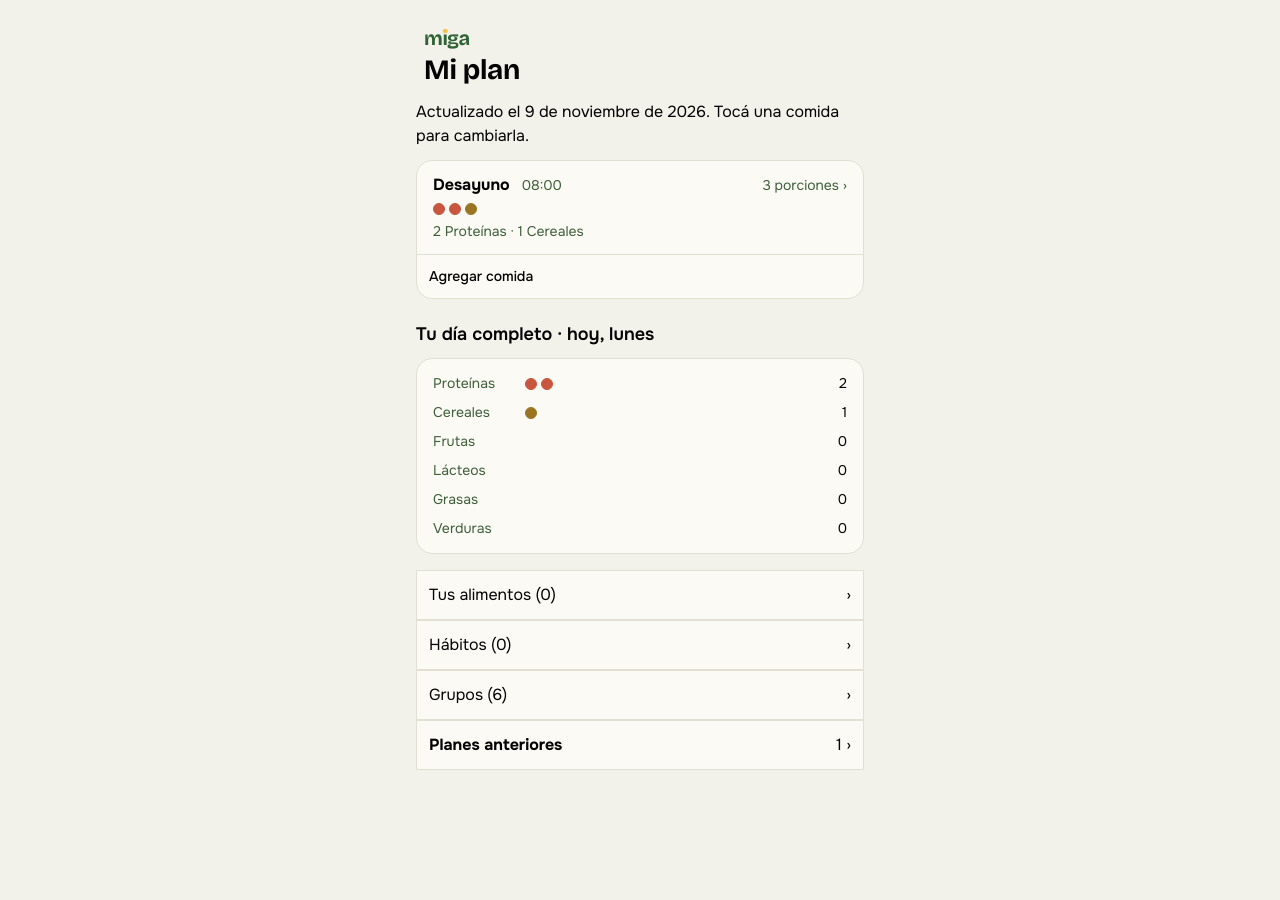
los planes anteriores conservan el detalle de solo lectura
Click the button "Planes anteriores 1 ›".
click(496, 745)  # box [416, 720, 864, 770]
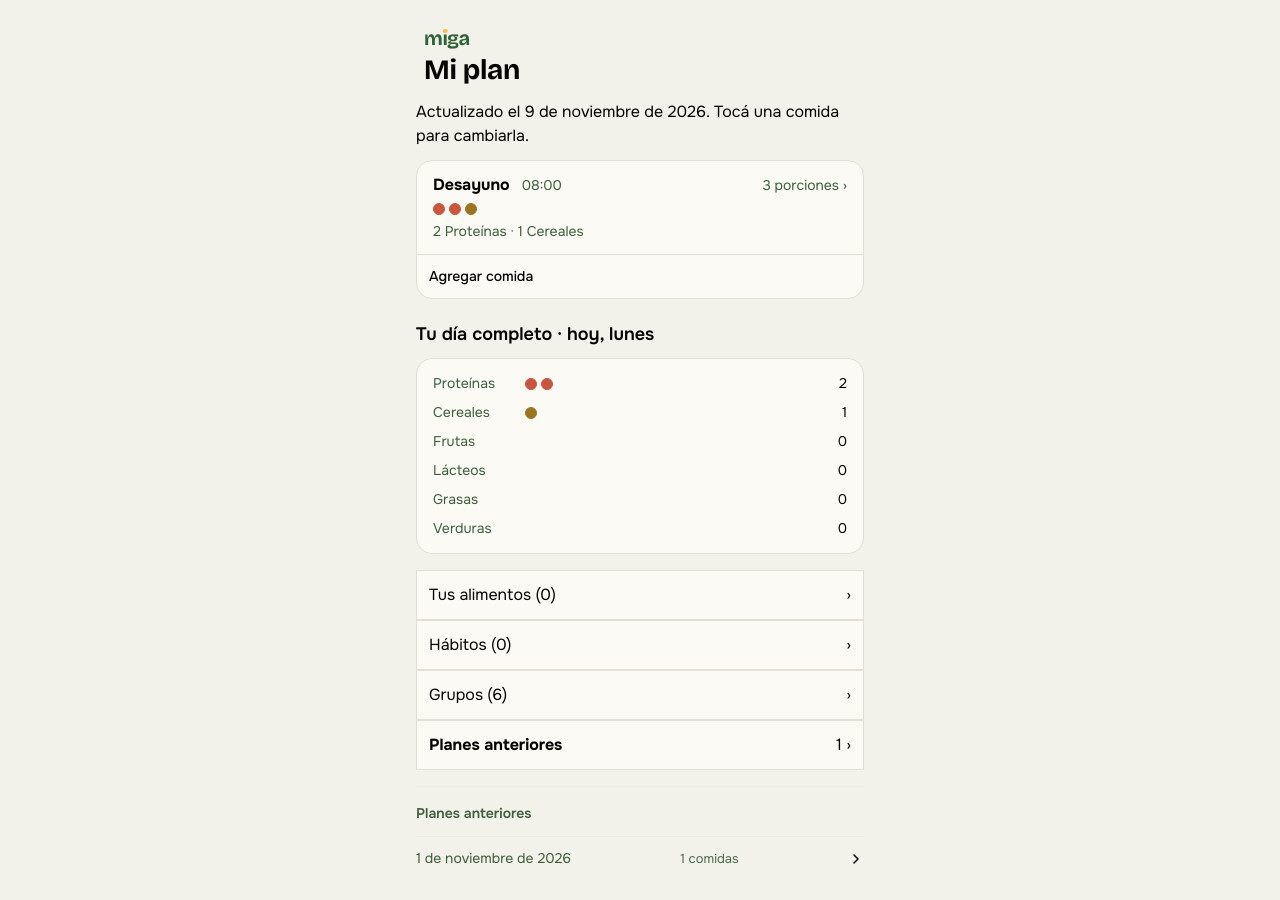
Click the button "1 de noviembre de 2026 1 comidas".
click(494, 858)  # box [416, 836, 864, 880]
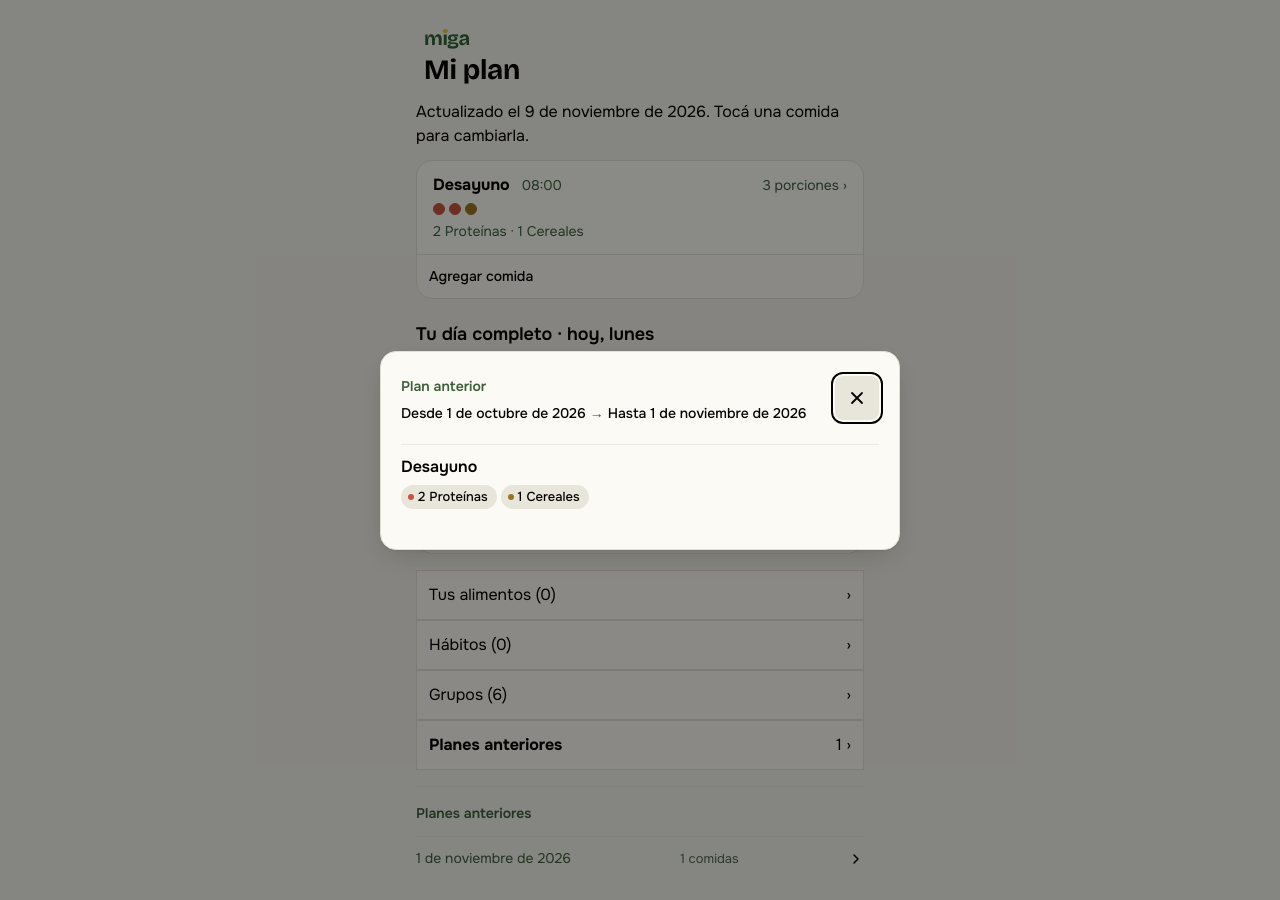
Now the dialog named "Detalle del plan" is shown, box [380, 350, 900, 550]
